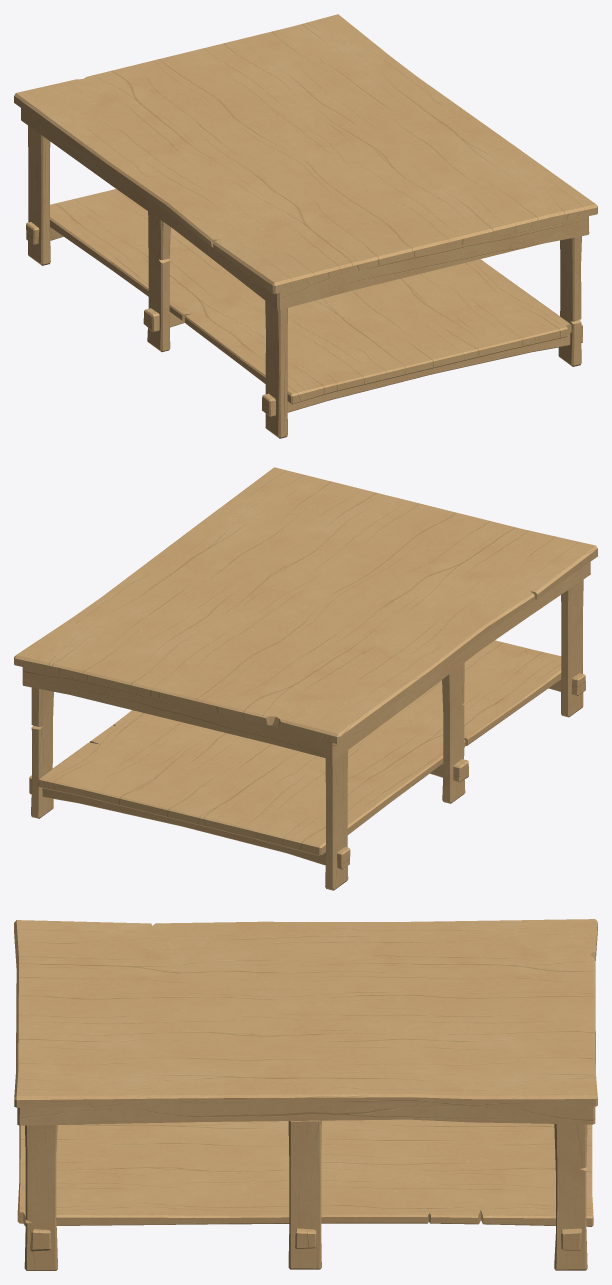
File: Model_Table_Main_TILED.FBX
3 views of the same model, one above another, from view 1: azimuth 30°, elevation 25°; view 2: azimuth 150°, elevation 25°; view 3: azimuth 270°, elevation 25° (orthographic). The views are drawn at different scales.
Parts seen in each view (by area): view 1: Table_Stylised_Main_TILED; view 2: Table_Stylised_Main_TILED; view 3: Table_Stylised_Main_TILED.
Boxes of the visible parts, x1,y1,x2,y2 form: Table_Stylised_Main_TILED: (14,14,597,438); Table_Stylised_Main_TILED: (14,467,597,890); Table_Stylised_Main_TILED: (14,919,597,1270).
Size of the model in its own units: 253 by 120 by 350.
